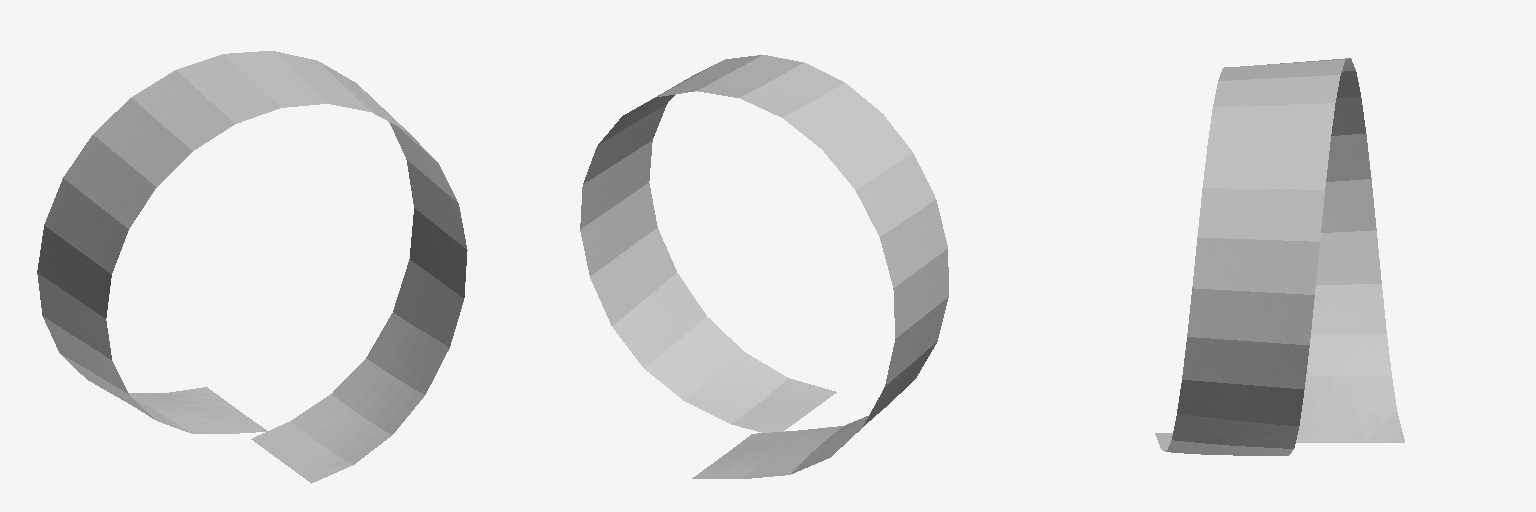
The model's file is loop_rotated.obj.
3 renders of one model, left to right at view 1: azimuth 30°, elevation 25°; view 2: azimuth 150°, elevation 25°; view 3: azimuth 270°, elevation 25°, orthographic.
Visible parts, largest first — view 1: Plane_Plane.000; view 2: Plane_Plane.000; view 3: Plane_Plane.000.
Part boxes in pixels (left/top/right/bottom): Plane_Plane.000: left=37, top=51, right=467, bottom=483; Plane_Plane.000: left=580, top=55, right=948, bottom=478; Plane_Plane.000: left=1155, top=58, right=1404, bottom=455.
Bounding box in the file's own units: 11.79 × 11.74 × 7.4.